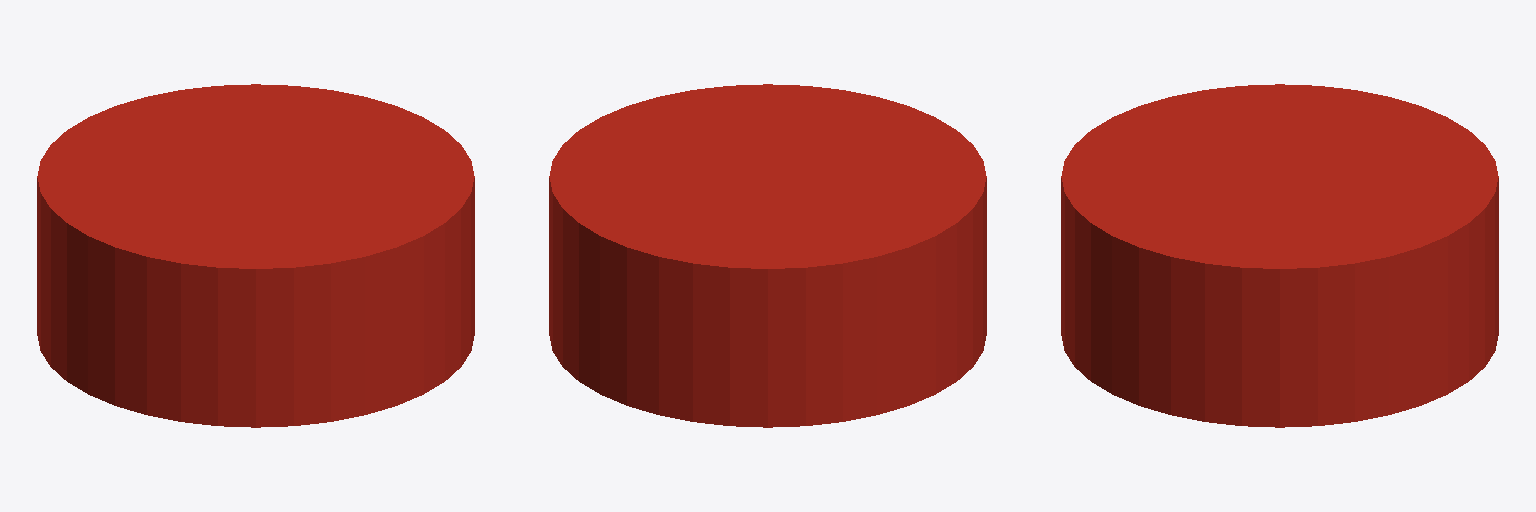
File: head.obj
The picture shows the model from 3 angles: view 1: azimuth 30°, elevation 25°; view 2: azimuth 150°, elevation 25°; view 3: azimuth 270°, elevation 25°; orthographic projection.
Visible parts, largest first — view 1: Body1; view 2: Body1; view 3: Body1.
Boxes of the visible parts, box(x1,y1,x2,y2) form: Body1: box(37, 84, 474, 427); Body1: box(549, 84, 986, 427); Body1: box(1061, 84, 1498, 427).
Bounding box in the file's own units: 0.5 × 0.2 × 0.5.